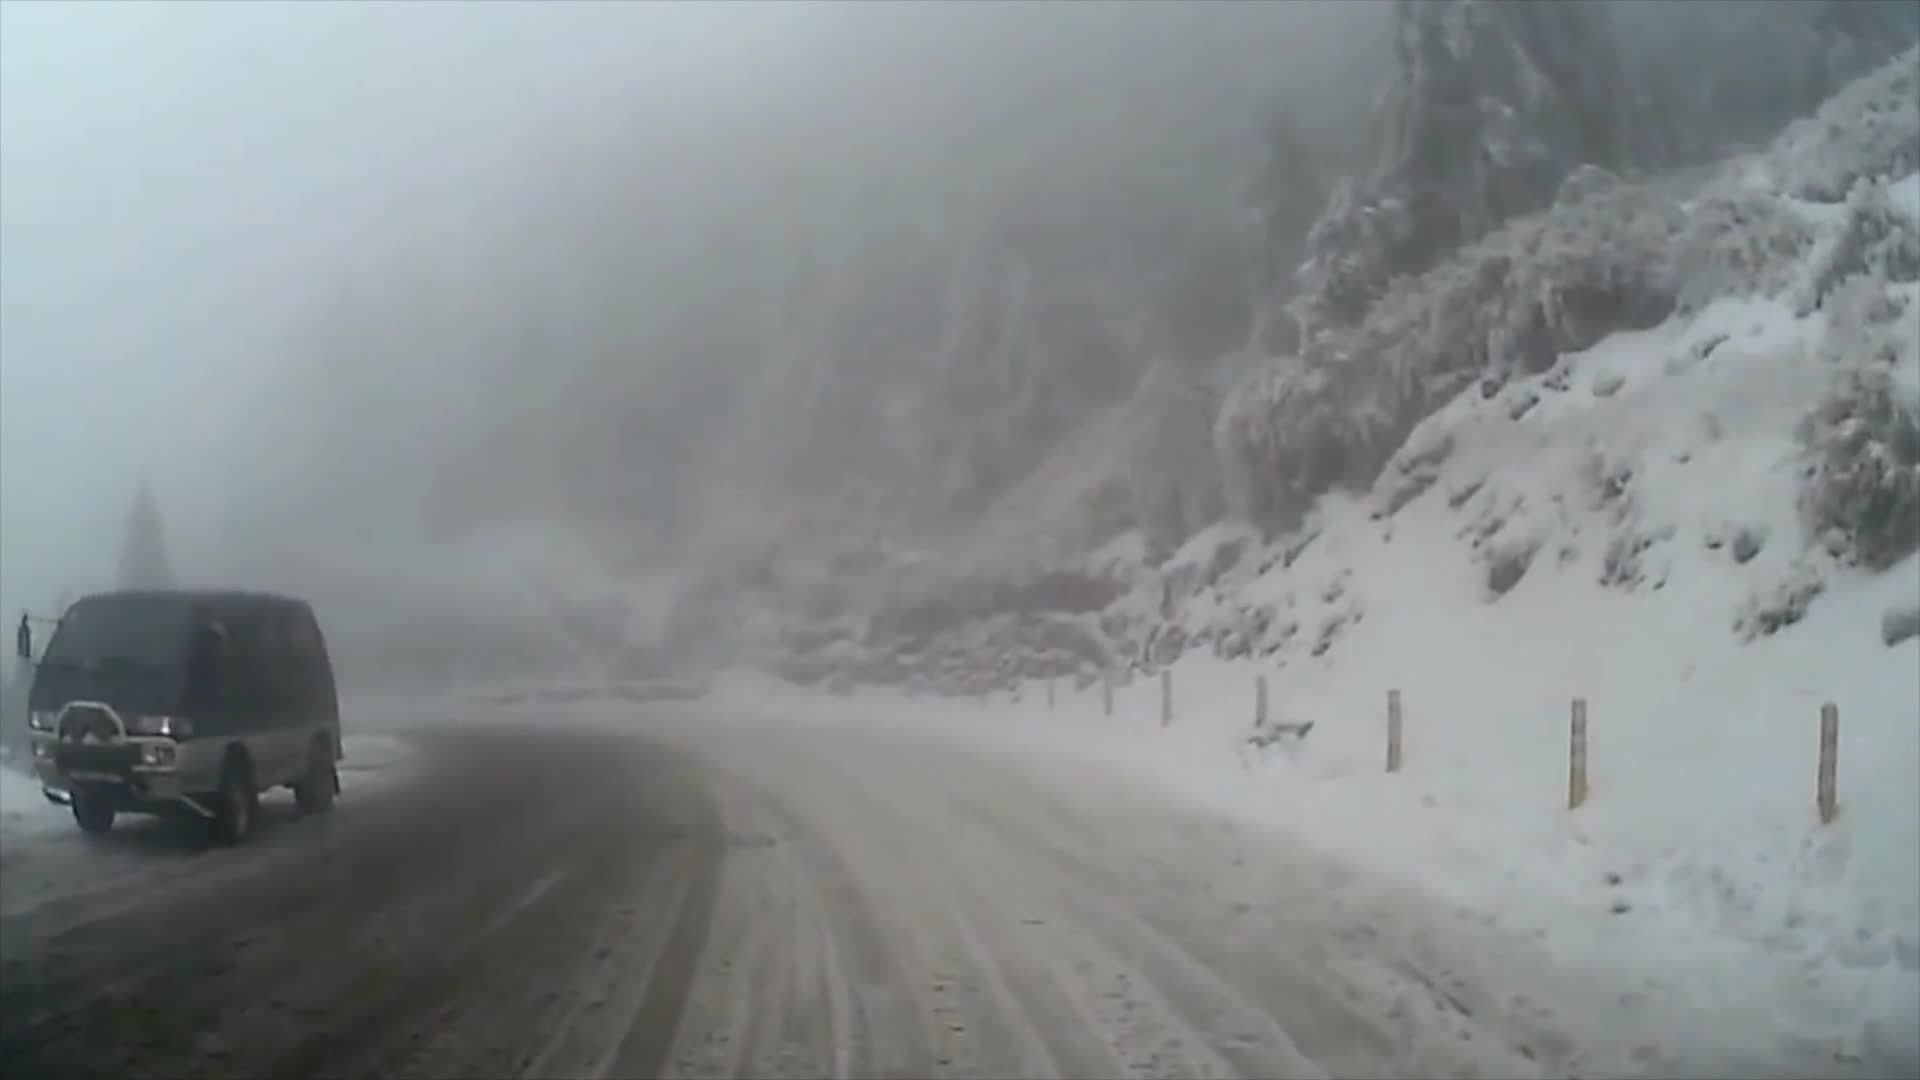vehicle: (16, 585, 343, 843)
